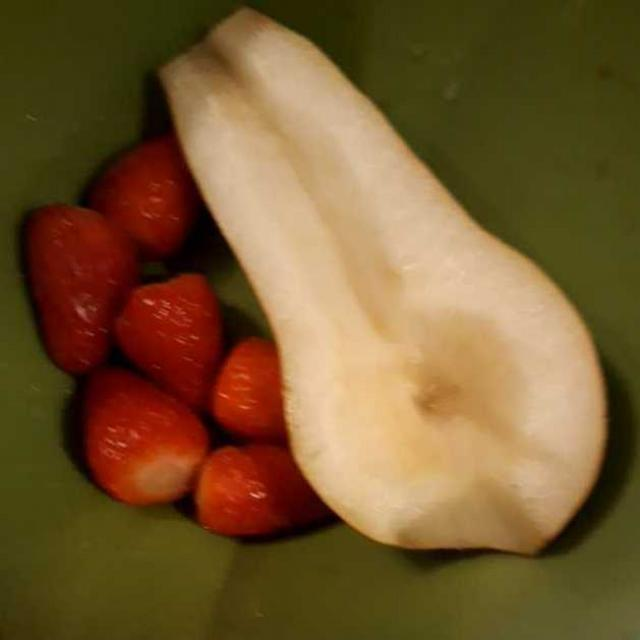pear: (158, 2, 607, 562)
strawberries: (20, 125, 324, 544)
